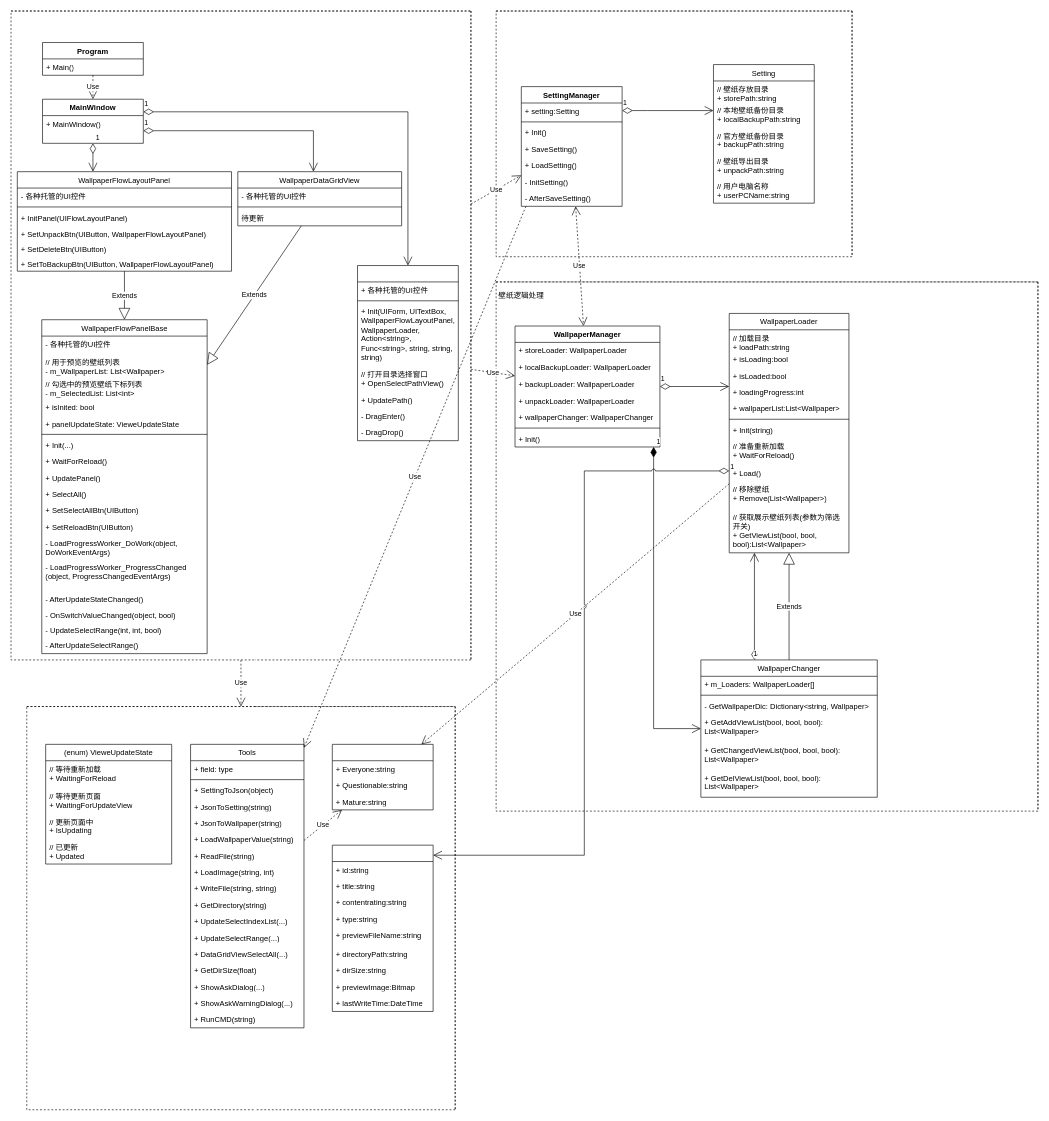
This 1049x1121 diagram has some shape labels left out. The shapes that lost their labels are listed below. From the top down, each one's box as (x1, y1, x2, y2) in pixels, then its label:
(495, 10, 852, 257): 设置功能
(10, 10, 471, 660): UI层
(357, 265, 458, 441): SettingPathPanel
(332, 744, 433, 810): Contentrating
(26, 706, 455, 1110): 静态工具类
(332, 845, 433, 1011): Wallpaper
